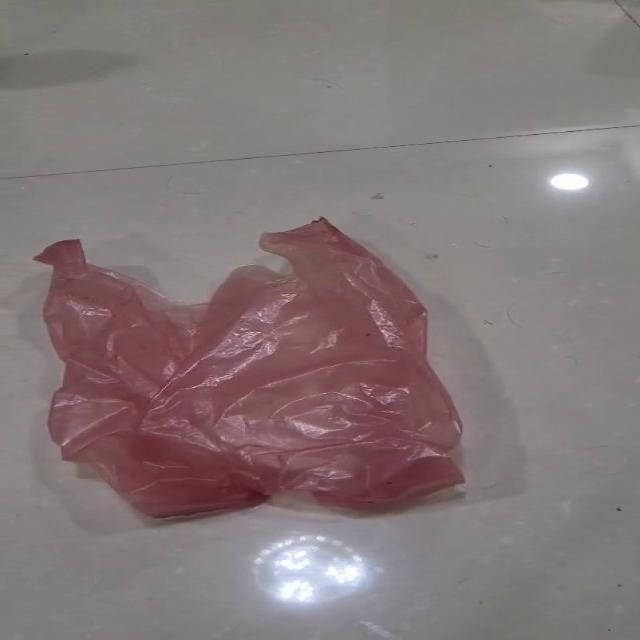plastic: (32, 214, 466, 518)
